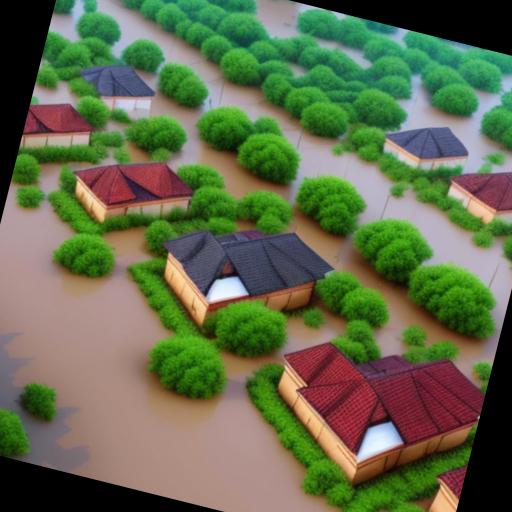flood: (98, 0, 512, 383), (0, 184, 347, 512), (150, 93, 298, 202), (400, 75, 512, 173), (151, 91, 200, 171), (257, 0, 320, 37), (318, 39, 371, 67), (32, 82, 78, 107), (49, 12, 77, 41), (38, 164, 61, 194), (126, 142, 150, 162), (135, 70, 157, 90), (99, 152, 115, 166), (69, 162, 94, 170), (107, 122, 125, 132)
house: (256, 318, 492, 510), (139, 200, 345, 360), (63, 140, 200, 248), (14, 80, 104, 186), (380, 112, 477, 186), (441, 143, 512, 238), (72, 52, 164, 125), (416, 451, 469, 512)
